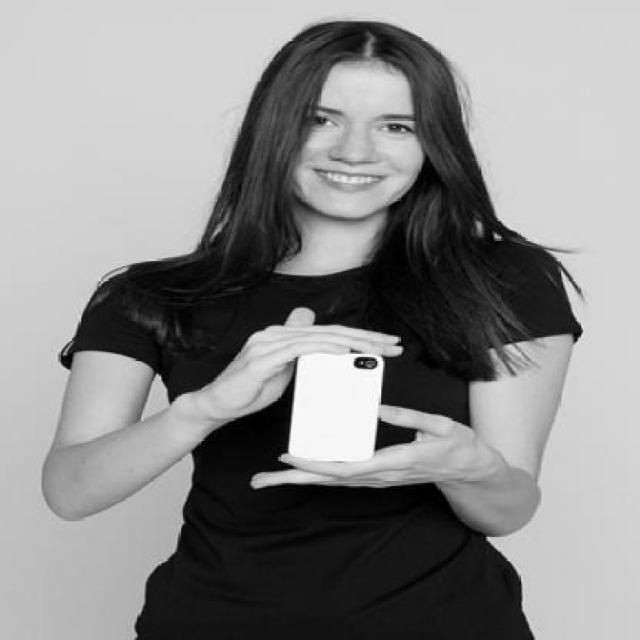fake: (288, 350, 388, 462)
